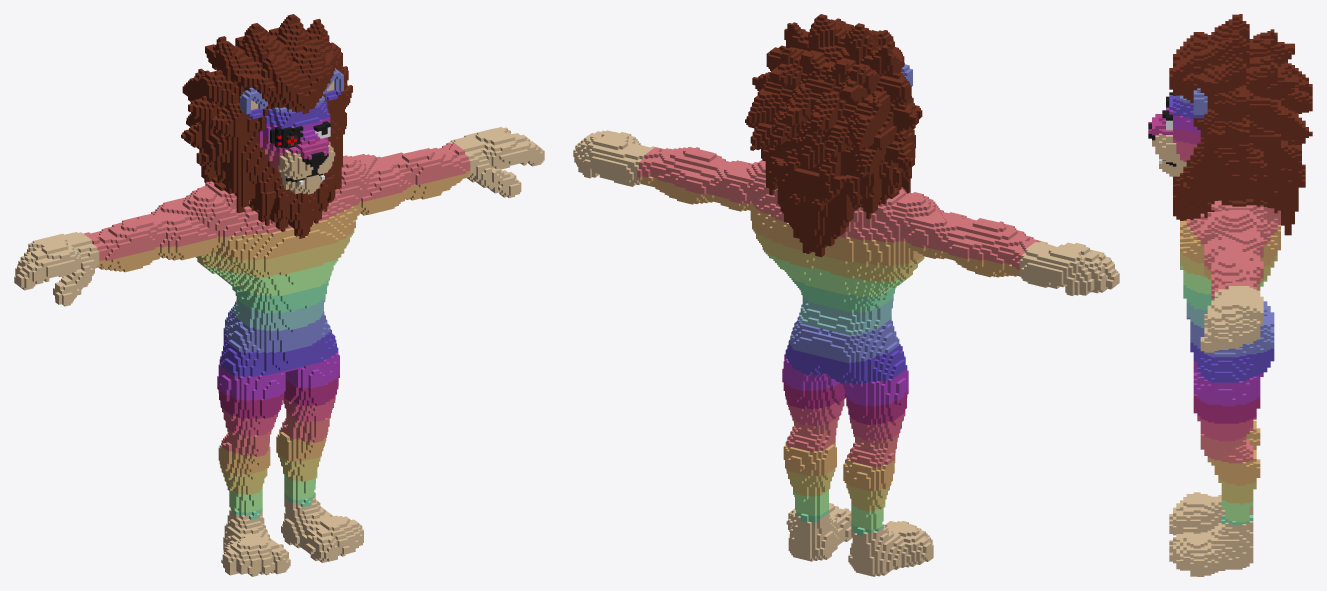
The model's file is 585-BPG0-bQP.glb.
3 renders of one model, left to right at view 1: azimuth 30°, elevation 25°; view 2: azimuth 150°, elevation 25°; view 3: azimuth 270°, elevation 25°, orthographic. The views are drawn at different scales.
Parts seen in each view (by area): view 1: standard; view 2: standard; view 3: standard.
Boxes of the visible parts, x1=… form: standard: x1=14, y1=14, x2=544, y2=576; standard: x1=573, y1=14, x2=1119, y2=576; standard: x1=1148, y1=14, x2=1312, y2=576.
Size of the model in its own units: 17.2 by 16.5 by 4.7.
4 materials, 4 textured.
